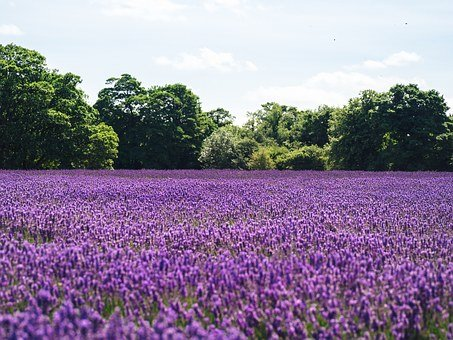flower: (9, 174, 449, 336)
tree: (6, 54, 117, 170), (98, 54, 209, 170), (211, 57, 322, 173), (332, 57, 443, 173)
